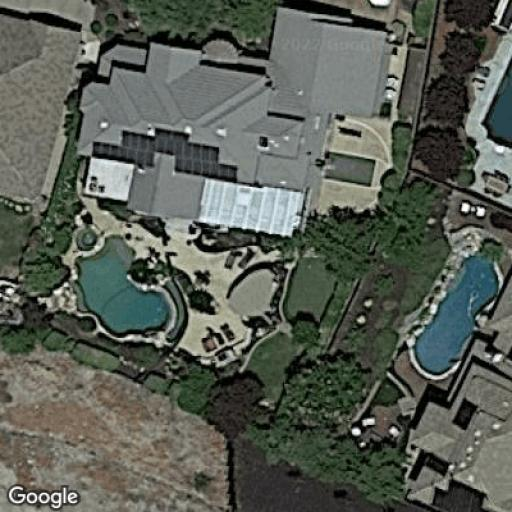solar-panel: (89, 124, 239, 182), (429, 478, 494, 512), (409, 446, 448, 483), (453, 396, 477, 435)
